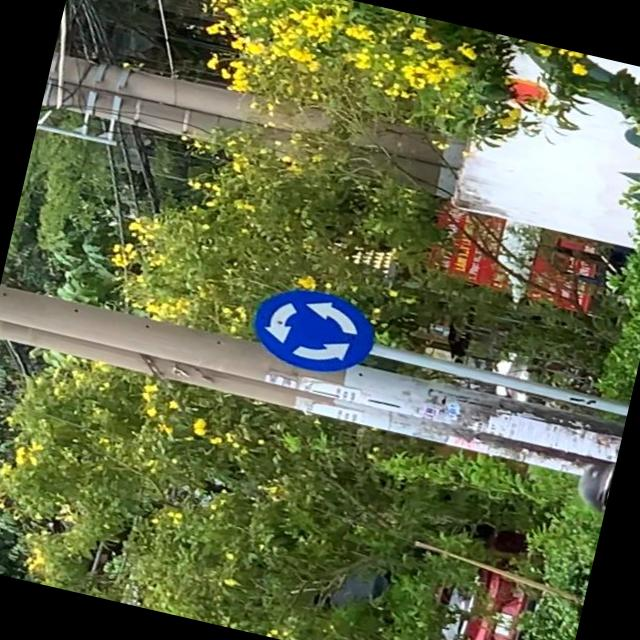R-303: (244, 278, 378, 381)
